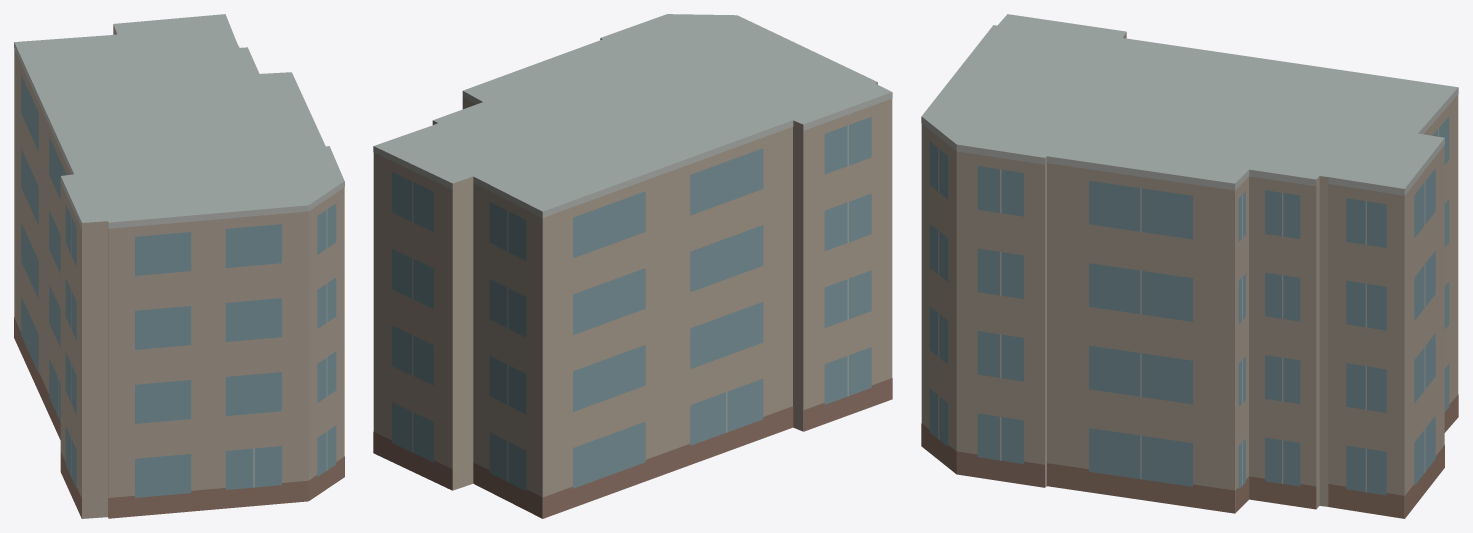
File: survey-upis-32534826.glb
3 views of the same model, side by side, from view 1: azimuth 30°, elevation 25°; view 2: azimuth 150°, elevation 25°; view 3: azimuth 270°, elevation 25° (orthographic). The views are drawn at different scales.
Parts seen in each view (by area): view 1: survey-upis-32534826.tmp; view 2: survey-upis-32534826.tmp; view 3: survey-upis-32534826.tmp.
Boxes of the visible parts, <box> form: survey-upis-32534826.tmp: <box>14,14,344,518</box>; survey-upis-32534826.tmp: <box>373,14,892,518</box>; survey-upis-32534826.tmp: <box>921,14,1458,518</box>.
Size of the model in its own units: 13.43 by 11.8 by 17.42.
